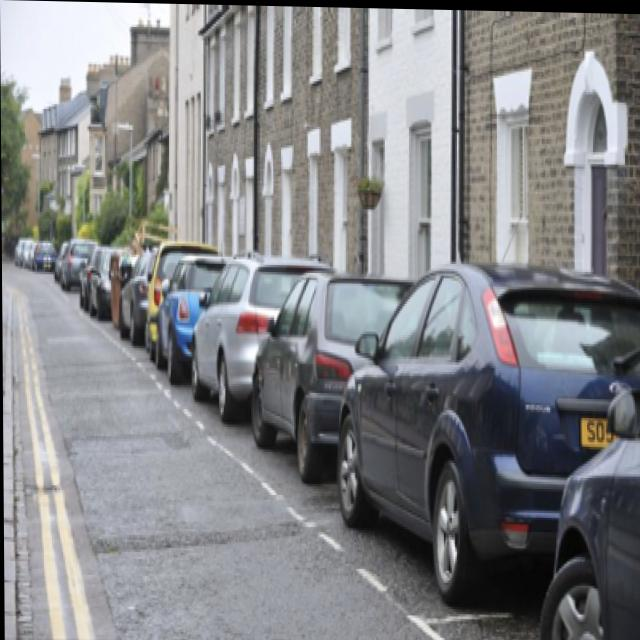licence: (577, 406, 614, 442)
